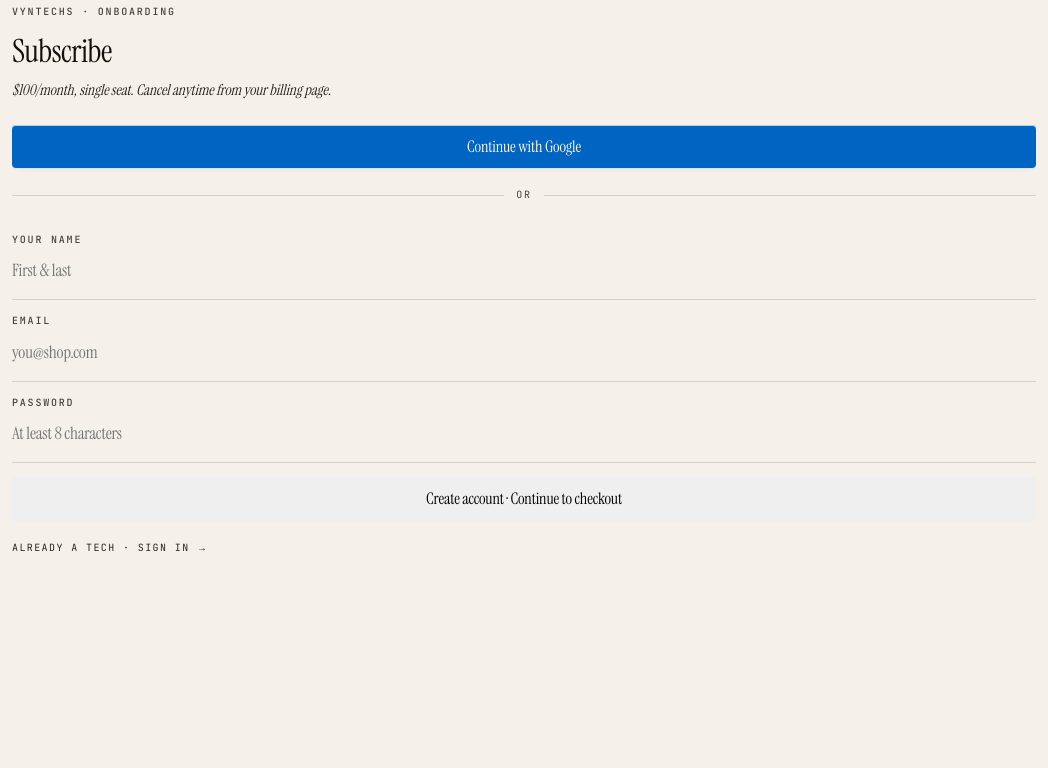
Test: SignUpForm › shows an error when the checkout fetch returns a non-OK response
Type "Mike Joe" into the field labelled "Your name" at (524, 270), box [12,255,1036,285]
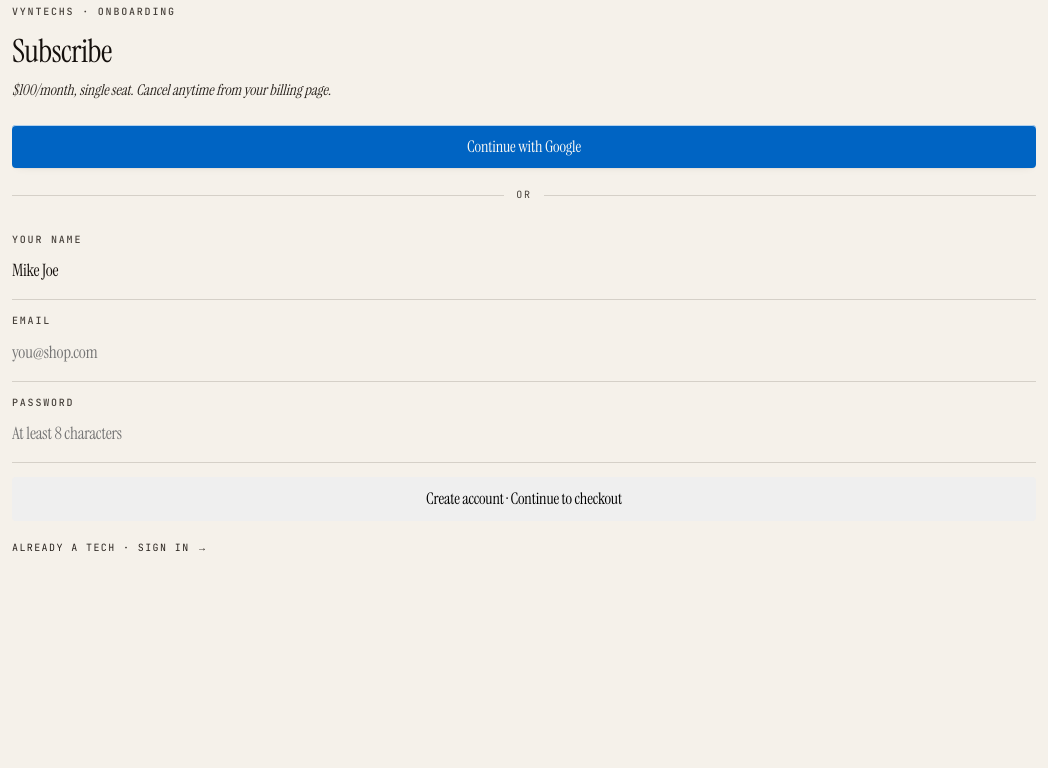
Type "mike@joesgarage.com" into the field labelled "Email" at (524, 352), box [12,337,1036,367]
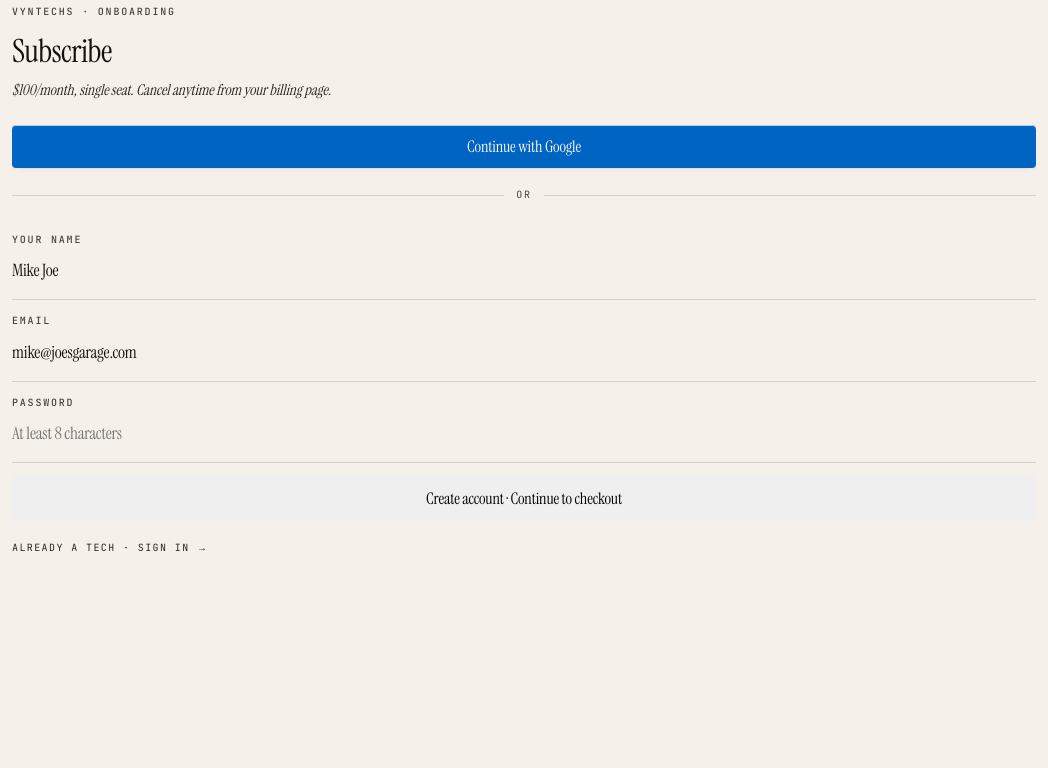
Type "hunter22hunter22" into the password field labelled "Password" at (524, 433), box [12,418,1036,448]
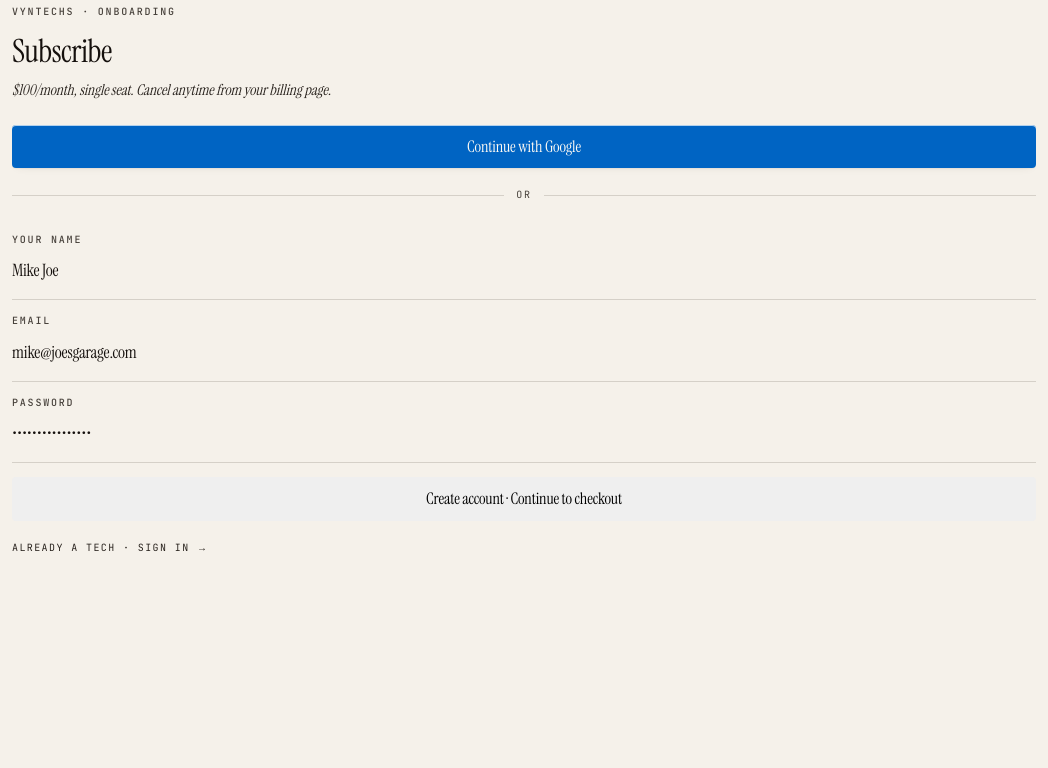
Click the button "Create account · Continue to checkout" at (524, 499), box [12,477,1036,521]
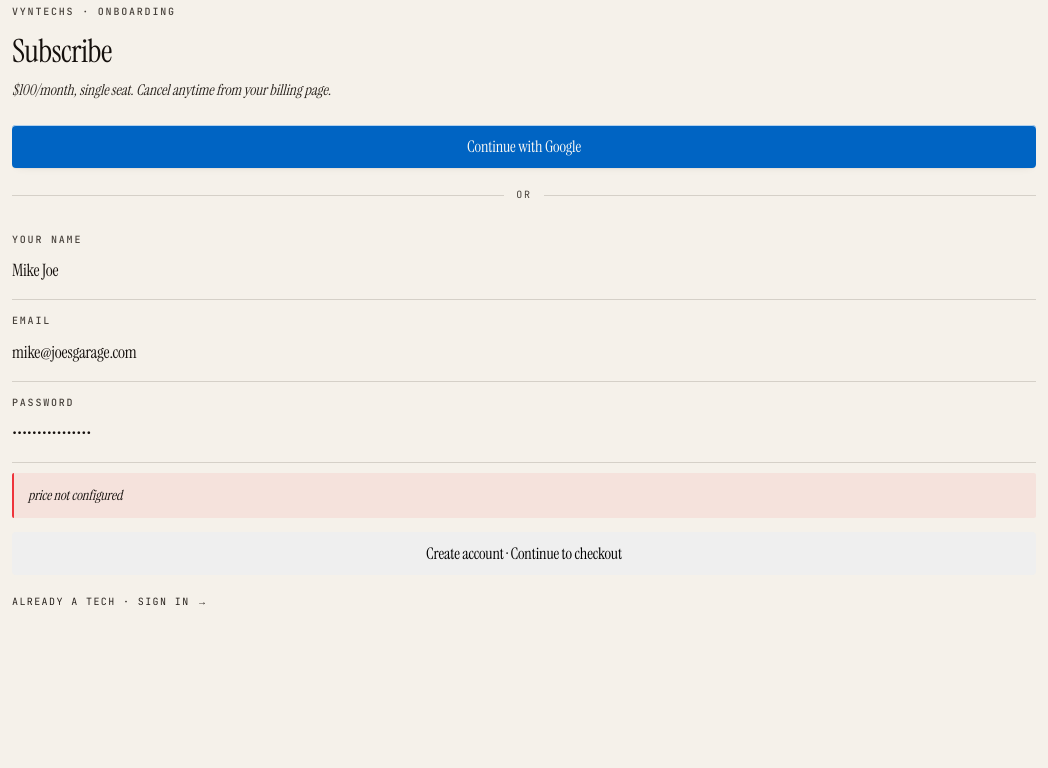
Expected: the text "price not configured" is shown, [12,473,1036,518]
